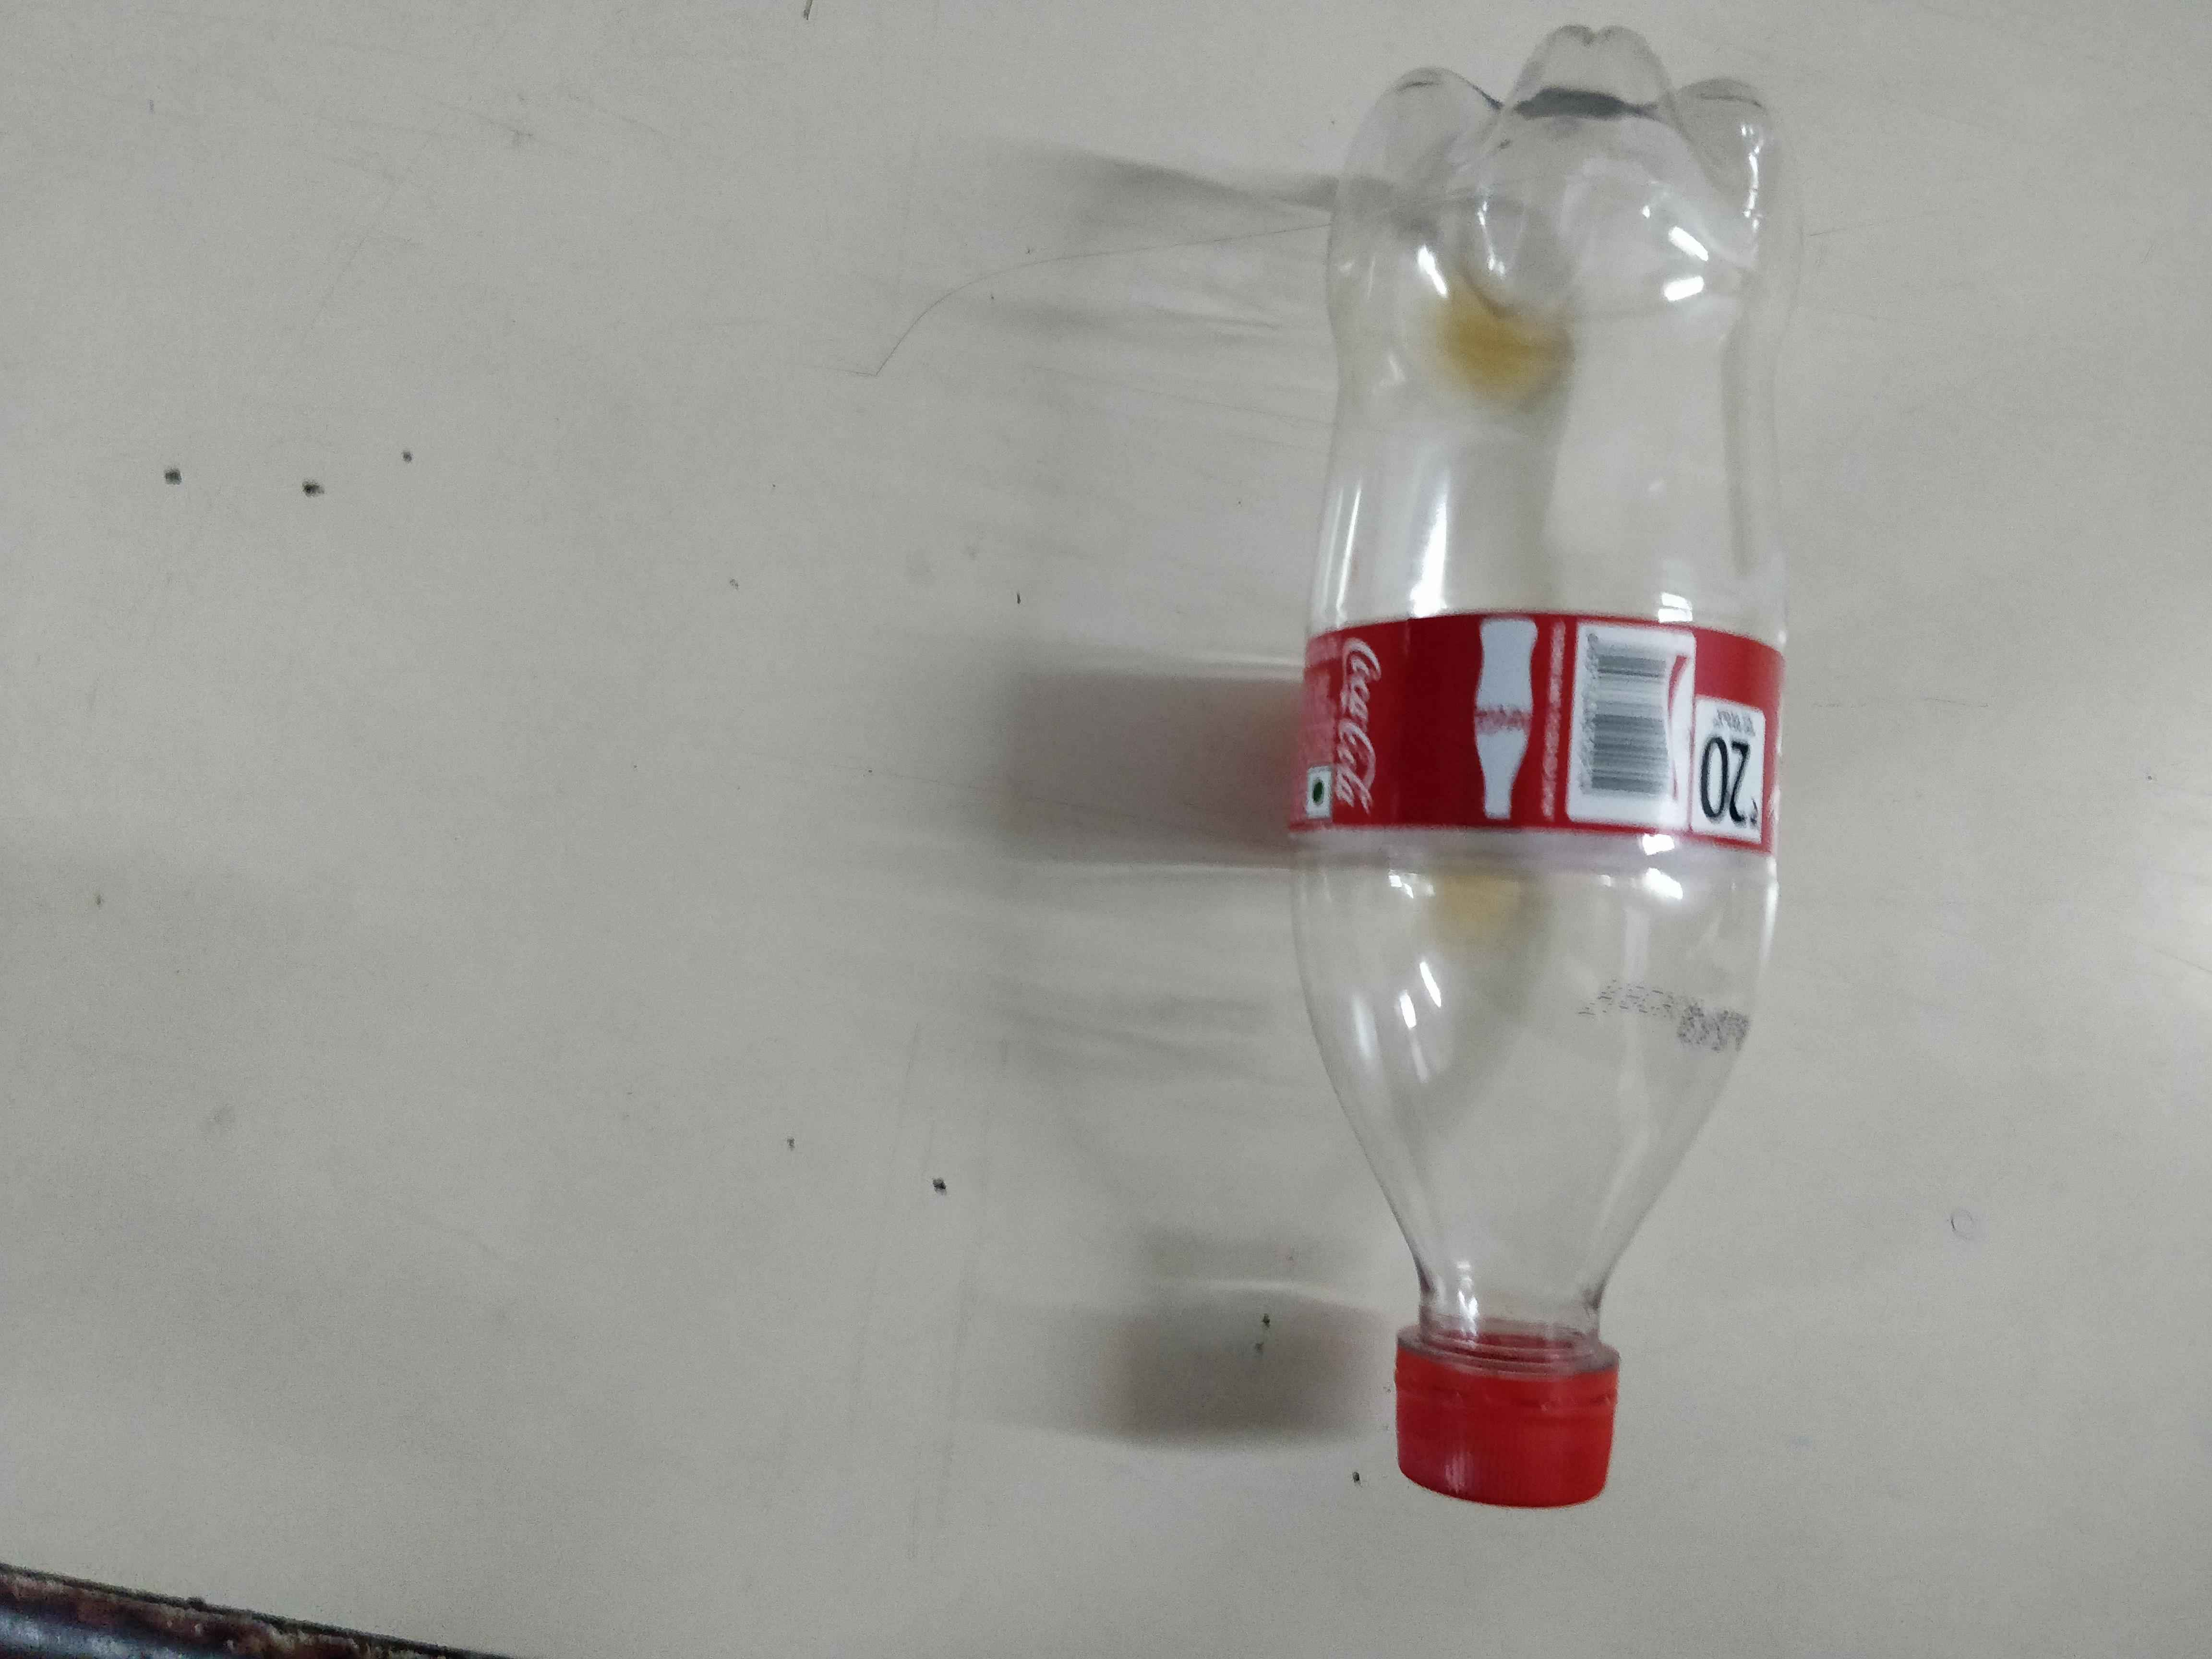Coca-Cola: (1318, 619, 1411, 812)
